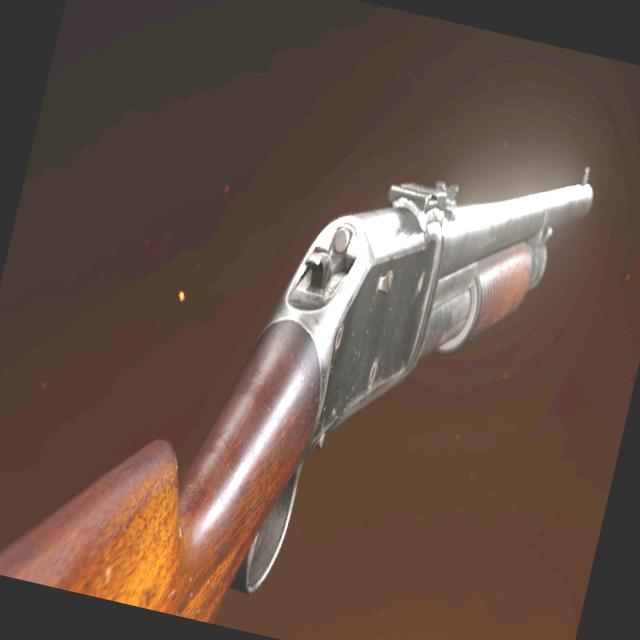shotgun: (0, 31, 640, 640)
